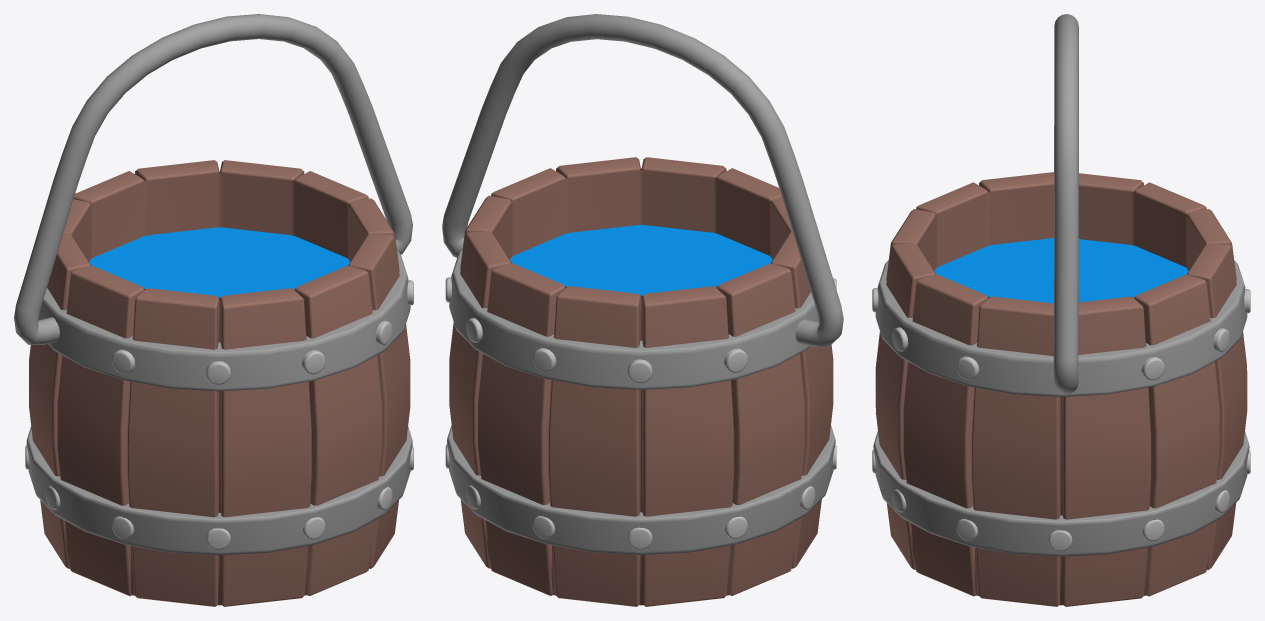
The model's file is Farm_16_Bucket_with_water_1.glb.
3 renders of one model, left to right at view 1: azimuth 30°, elevation 25°; view 2: azimuth 150°, elevation 25°; view 3: azimuth 270°, elevation 25°, orthographic. The views are drawn at different scales.
Parts seen in each view (by area): view 1: Farm_16_Bucket_with_water_1; view 2: Farm_16_Bucket_with_water_1; view 3: Farm_16_Bucket_with_water_1.
Boxes of the visible parts, <box> form: Farm_16_Bucket_with_water_1: <box>14,14,413,606</box>; Farm_16_Bucket_with_water_1: <box>442,14,843,606</box>; Farm_16_Bucket_with_water_1: <box>872,14,1250,606</box>.
Size of the model in its own units: 0.7631 by 0.9429 by 0.6485.
Materials: 1 (1 with a texture image).
